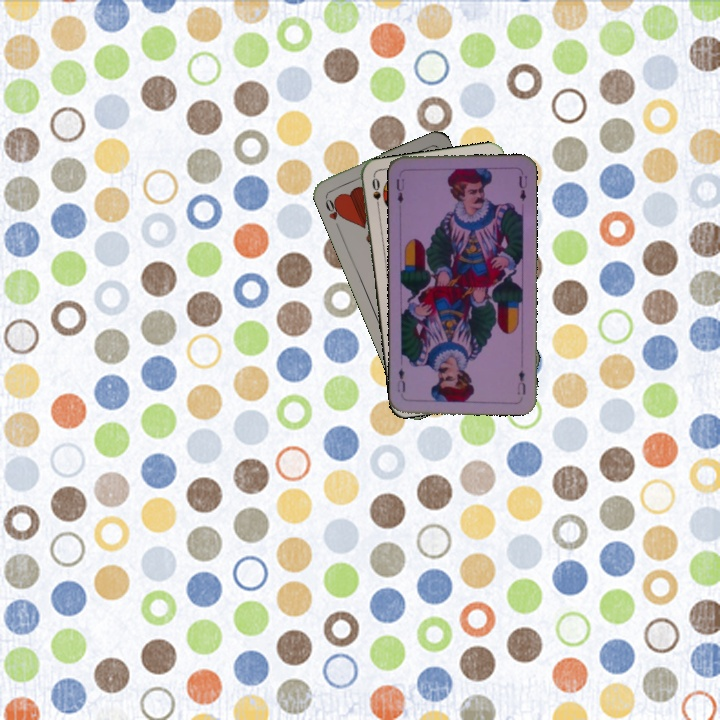EU: (513, 366, 528, 397), (392, 174, 406, 206)
HO: (321, 192, 346, 231)
SO: (368, 174, 383, 214)
